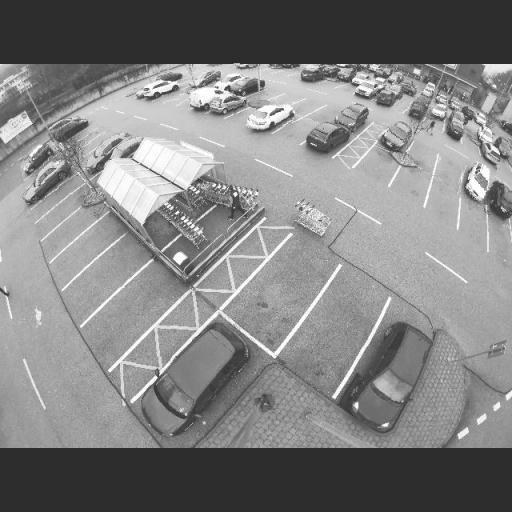busy: (135, 318, 252, 440), (353, 312, 433, 427), (22, 161, 69, 201), (459, 161, 495, 204), (246, 103, 294, 132), (83, 136, 125, 168), (377, 118, 415, 152), (304, 123, 347, 151), (332, 102, 372, 128), (136, 79, 178, 100), (490, 180, 512, 216), (23, 145, 54, 170), (209, 94, 244, 114), (53, 120, 88, 140), (188, 68, 222, 88), (229, 76, 261, 95), (443, 113, 466, 138), (374, 88, 399, 110), (405, 98, 427, 120), (300, 65, 326, 82), (353, 81, 378, 98), (216, 74, 240, 90), (427, 104, 448, 122), (160, 70, 184, 84), (336, 68, 355, 82), (234, 64, 256, 70)
free: (313, 302, 367, 348), (260, 264, 314, 306), (112, 292, 155, 327), (90, 259, 128, 288), (427, 189, 458, 216), (435, 158, 463, 183), (460, 210, 486, 236), (489, 224, 511, 250), (73, 236, 98, 258), (411, 144, 437, 164), (366, 156, 391, 176), (397, 174, 424, 192), (44, 187, 66, 205), (237, 105, 256, 124), (78, 126, 98, 144), (54, 201, 72, 218), (291, 121, 311, 135), (61, 220, 81, 234), (86, 134, 104, 149), (172, 94, 188, 108), (160, 93, 179, 104), (276, 96, 294, 106), (298, 102, 314, 112), (320, 110, 334, 119)
